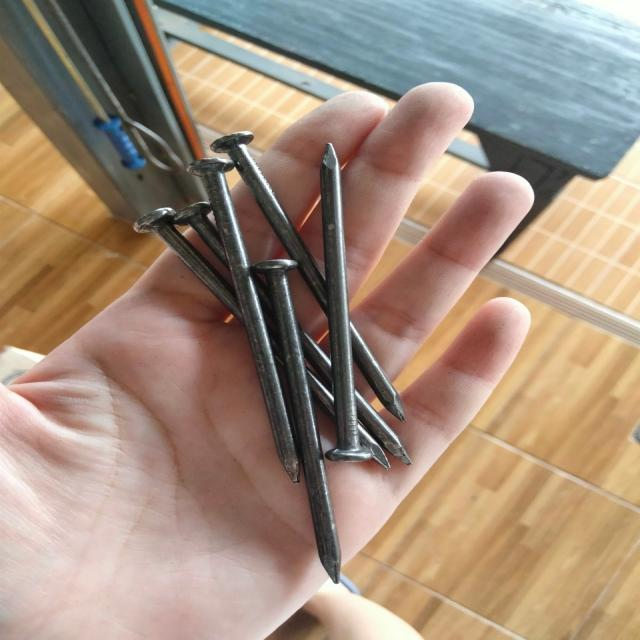3x8 nail: (176, 155, 350, 590), (315, 137, 398, 465)
